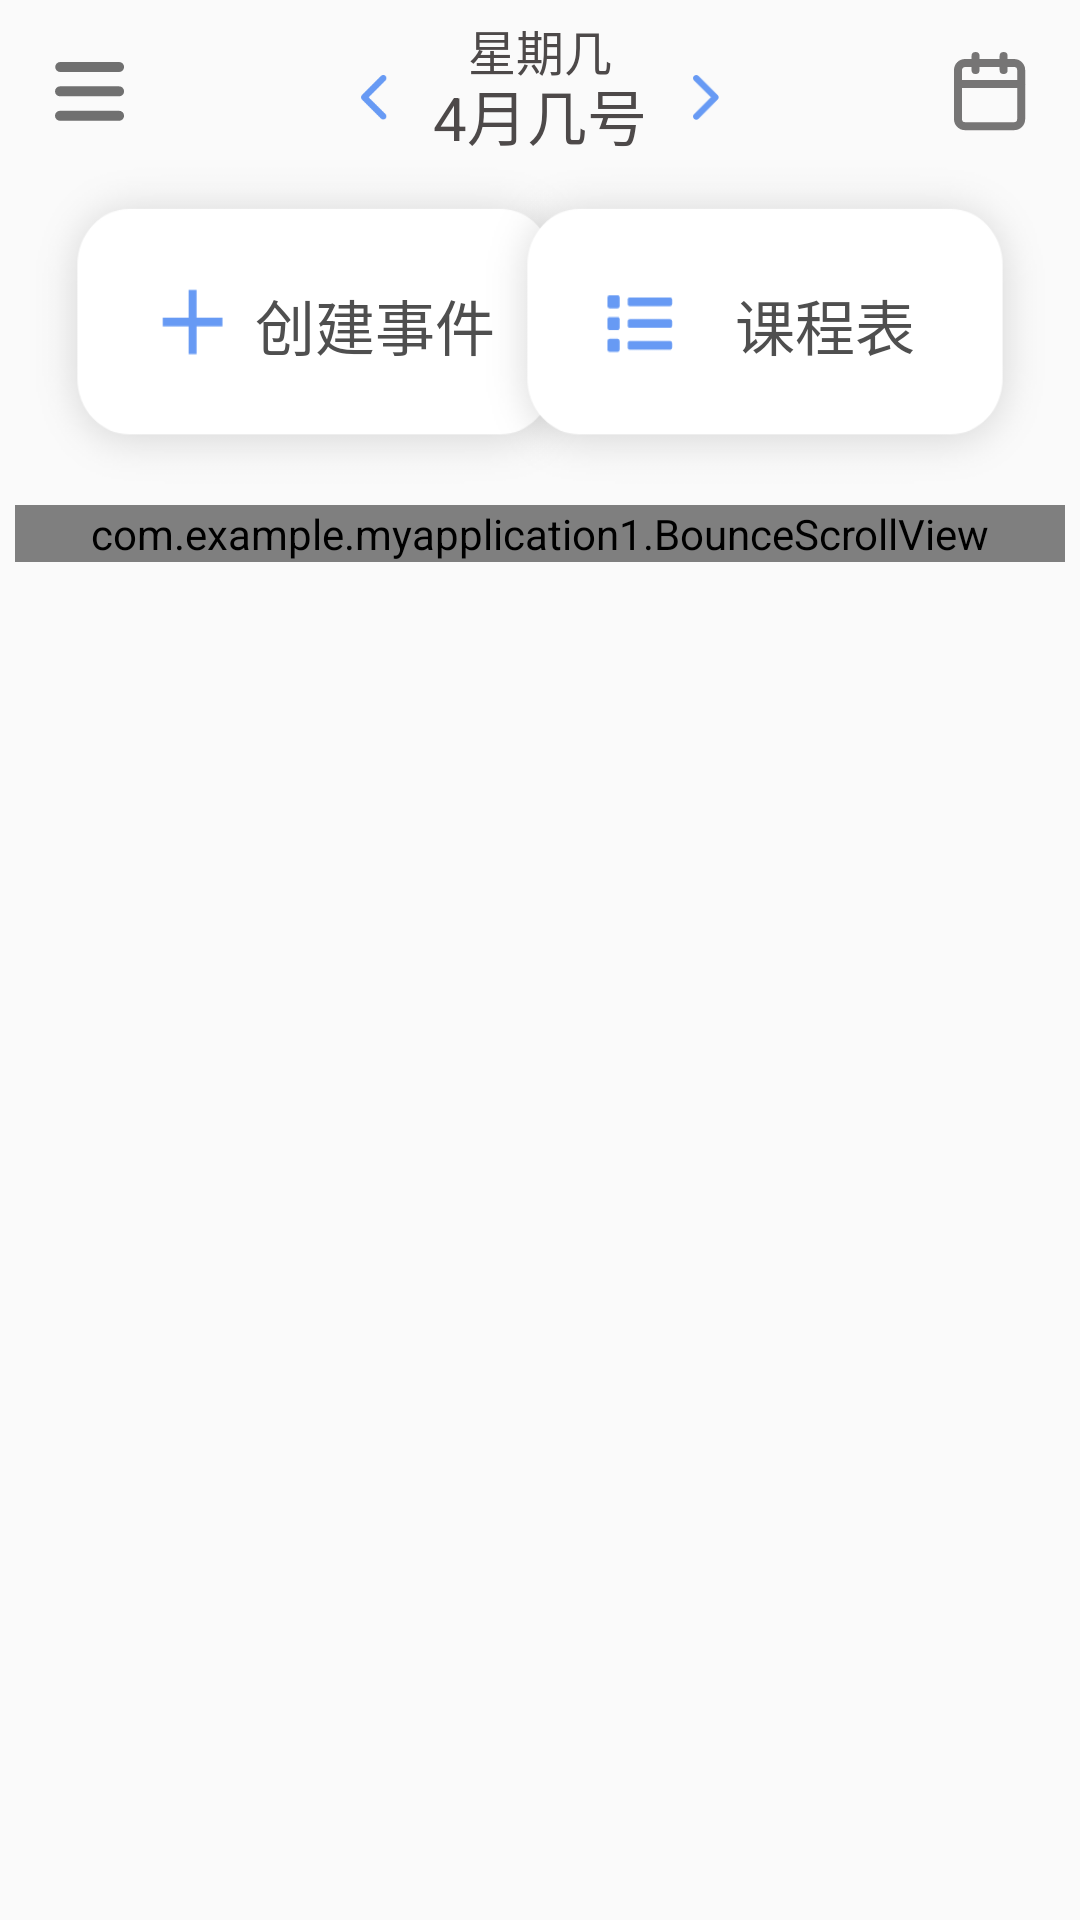

Screen size 1080w x 1920h. Icon name, then its box in pixels as (x1, y1, x2, y2):
calendar: (954, 52, 1026, 131)
lastday: (361, 75, 387, 120)
more: (55, 62, 124, 121)
